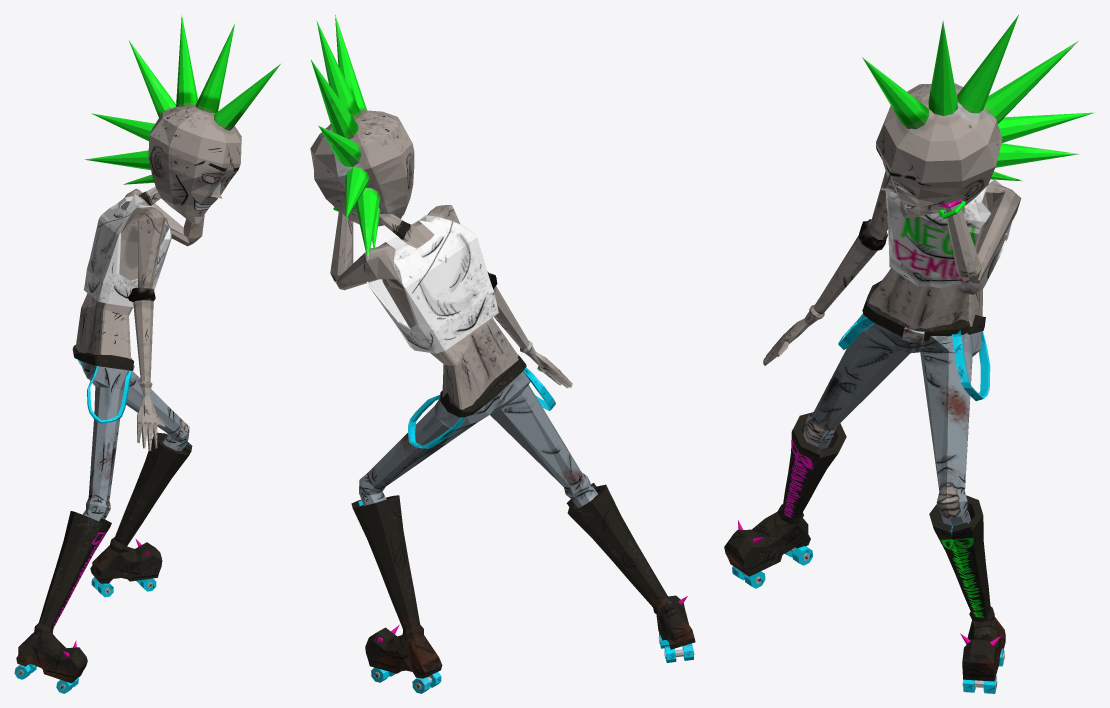
Rendered from punkAnimation_000064.obj.
3 renders of one model, left to right at view 1: azimuth 30°, elevation 25°; view 2: azimuth 150°, elevation 25°; view 3: azimuth 270°, elevation 25°, orthographic. The views are drawn at different scales.
Parts seen in each view (by area): view 1: Cube.004_Cube.003; view 2: Cube.004_Cube.003; view 3: Cube.004_Cube.003.
Part boxes in pixels (left/top/right/bottom): Cube.004_Cube.003: left=14, top=15, right=280, bottom=693; Cube.004_Cube.003: left=310, top=14, right=695, bottom=693; Cube.004_Cube.003: left=724, top=15, right=1094, bottom=693.
Size of the model in its own units: 3.68 by 6.67 by 3.12.
